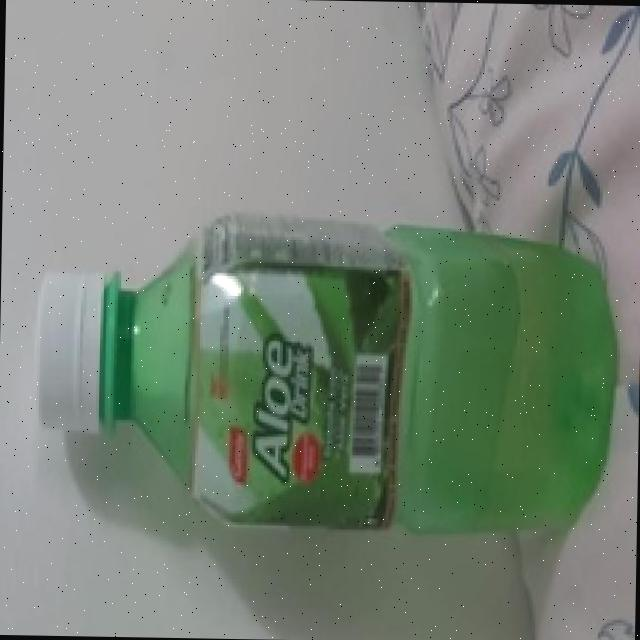bottle: (27, 195, 621, 551)
cap: (25, 271, 126, 438)
label: (175, 201, 407, 530)
